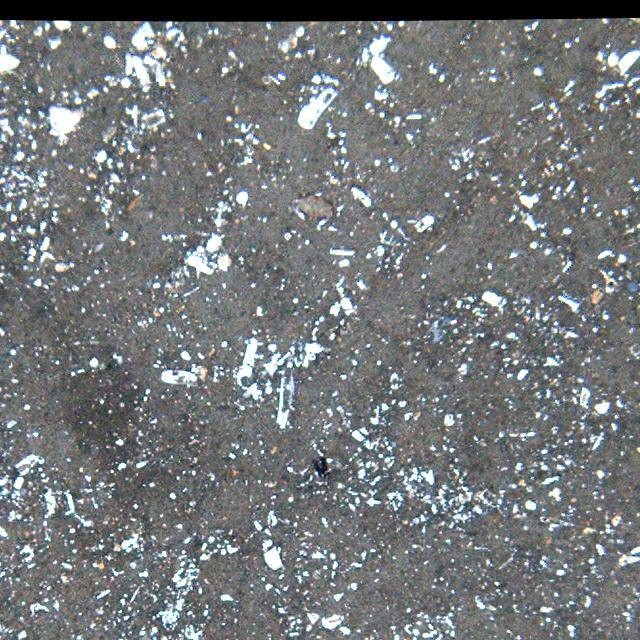crab: (292, 190, 337, 229)
